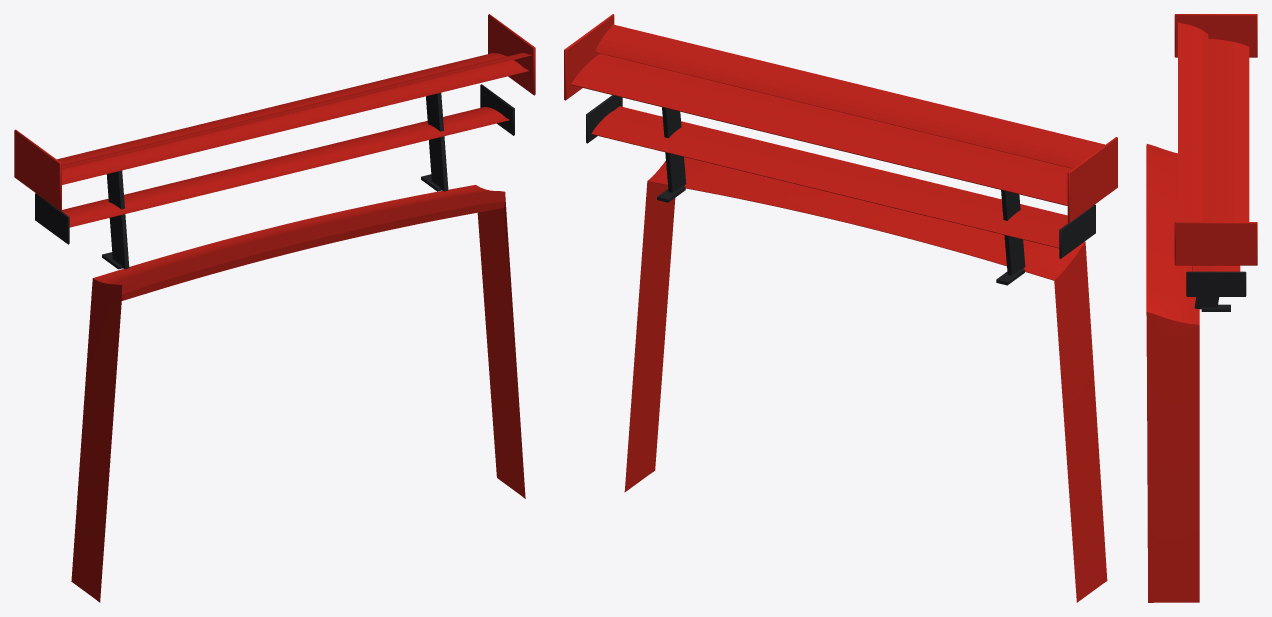
File: bus_kit.glb
The picture shows the model from 3 angles, left to right: view 1: azimuth 30°, elevation 25°; view 2: azimuth 150°, elevation 25°; view 3: azimuth 270°, elevation 25°; orthographic projection. The views are drawn at different scales.
Parts seen in each view (by area): view 1: spoiler_ducktail, spoiler_mega, spoiler_wing, spoiler_lip; view 2: spoiler_mega, spoiler_ducktail, spoiler_wing; view 3: spoiler_ducktail, spoiler_mega, spoiler_wing.
Boxes of the visible parts, x1=… form: spoiler_ducktail: x1=71, y1=185, x2=525, y2=602; spoiler_mega: x1=14, y1=14, x2=535, y2=269; spoiler_wing: x1=35, y1=84, x2=514, y2=266; spoiler_lip: x1=91, y1=201, x2=524, y2=601; spoiler_mega: x1=564, y1=14, x2=1117, y2=285; spoiler_ducktail: x1=624, y1=157, x2=1107, y2=602; spoiler_wing: x1=586, y1=95, x2=1095, y2=275; spoiler_ducktail: x1=1146, y1=144, x2=1199, y2=602; spoiler_mega: x1=1174, y1=14, x2=1257, y2=311; spoiler_wing: x1=1186, y1=265, x2=1246, y2=308.
Size of the model in its own units: 2.68 by 2.34 by 0.605.
